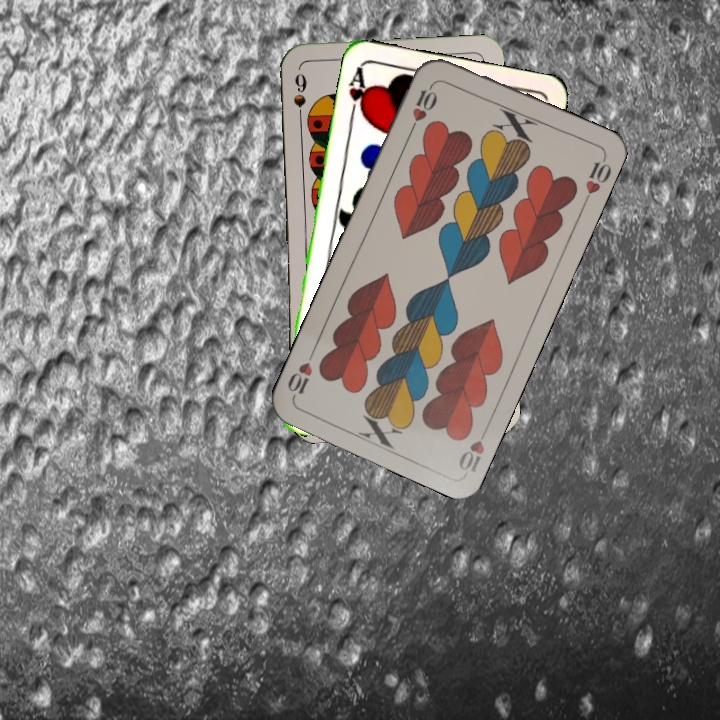H10: (454, 420, 492, 475), (406, 79, 440, 135)
HA: (345, 63, 372, 122)
S9: (289, 69, 309, 127)
